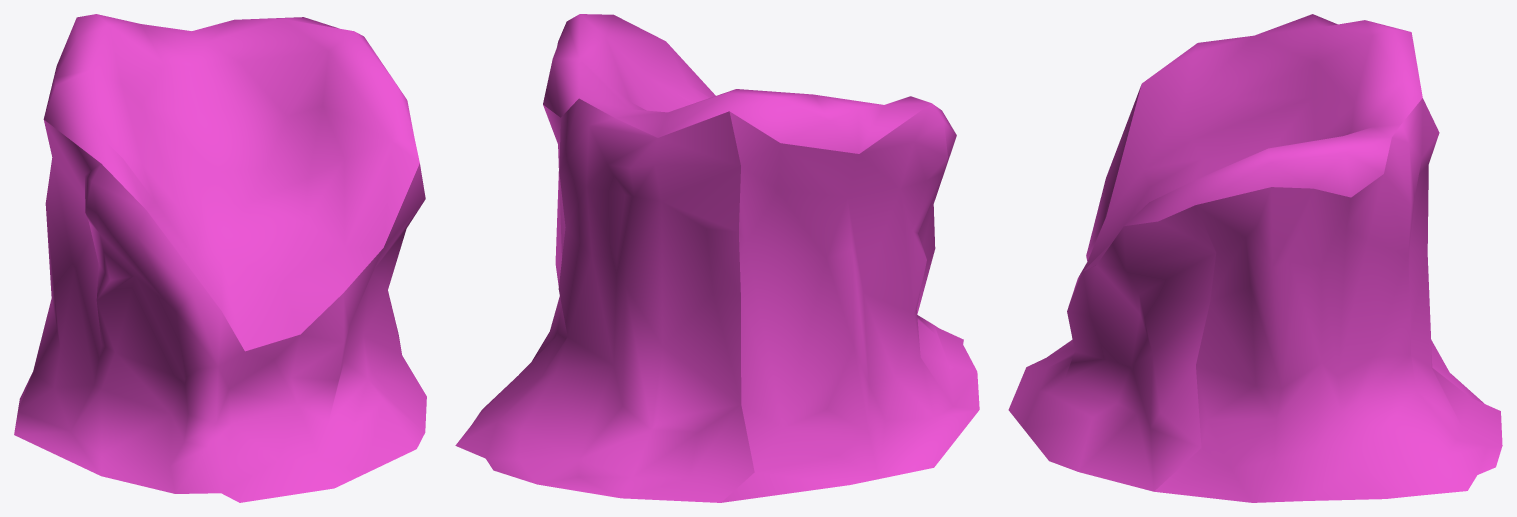
Rendered from candle_short.fbx.
The picture shows the model from 3 angles, left to right: view 1: azimuth 30°, elevation 25°; view 2: azimuth 150°, elevation 25°; view 3: azimuth 270°, elevation 25°; orthographic projection. The views are drawn at different scales.
Parts seen in each view (by area): view 1: candle_short; view 2: candle_short; view 3: candle_short.
Boxes of the visible parts, box(x1,y1,x2,y2) form: candle_short: box(14, 14, 426, 502); candle_short: box(455, 14, 979, 502); candle_short: box(1008, 14, 1502, 502).
Size of the model in its own units: 2.99 by 2.69 by 3.38.
